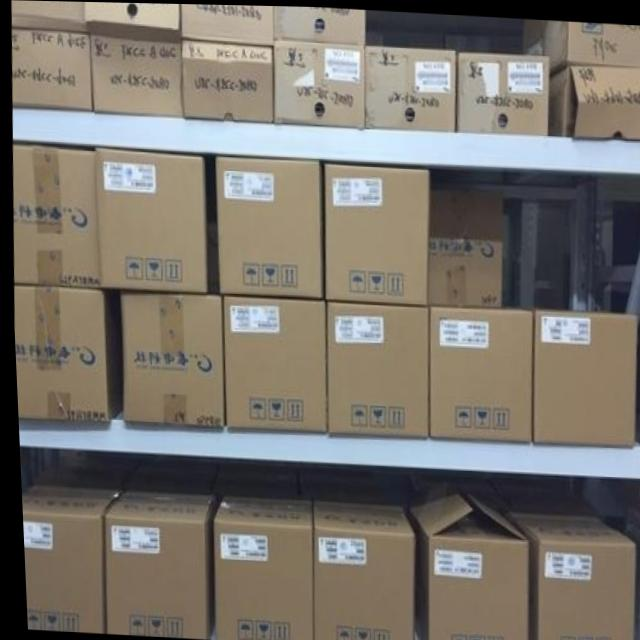box: (403, 491, 523, 640), (98, 489, 215, 638), (504, 513, 631, 640), (92, 147, 203, 292), (213, 153, 320, 297), (17, 483, 117, 633), (322, 162, 427, 304), (11, 282, 117, 422), (218, 292, 323, 433), (426, 299, 530, 441), (207, 494, 308, 640), (307, 497, 409, 640), (528, 306, 633, 444), (116, 290, 222, 426), (322, 297, 426, 435), (11, 144, 96, 289), (425, 187, 500, 305), (272, 39, 364, 125), (180, 37, 274, 121), (89, 34, 183, 118), (363, 43, 455, 128), (454, 50, 549, 131), (523, 16, 640, 75), (546, 63, 640, 136), (11, 28, 92, 111), (84, 1, 181, 42), (181, 3, 273, 46), (274, 5, 364, 44), (207, 472, 298, 503), (498, 489, 595, 518), (11, 0, 89, 34), (294, 478, 396, 504), (117, 467, 212, 492)
